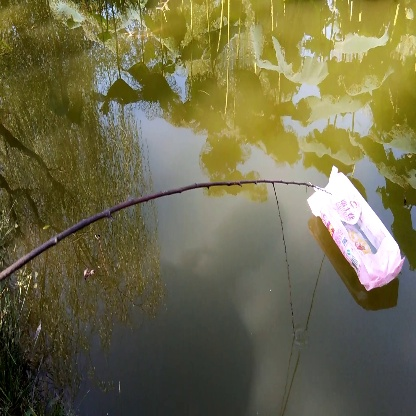plastic-bag: (308, 167, 405, 299)
